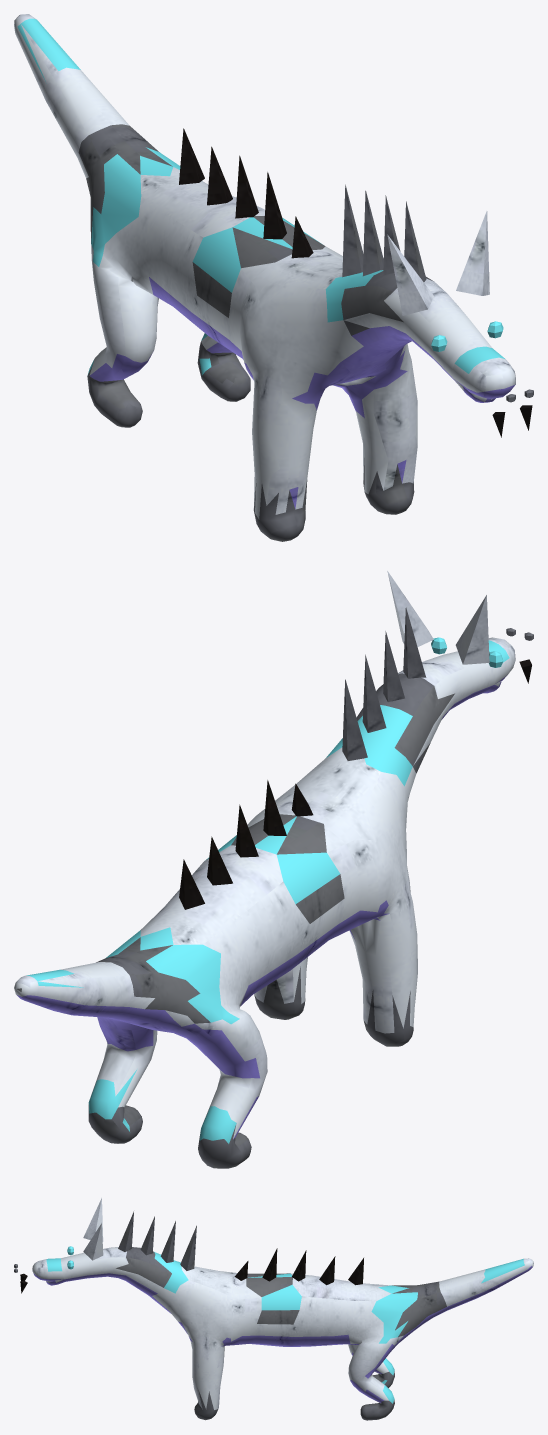
Rendered from mon_sp_rift_fox.glb.
The picture shows the model from 3 angles, top to bottom: view 1: azimuth 30°, elevation 25°; view 2: azimuth 150°, elevation 25°; view 3: azimuth 270°, elevation 25°; orthographic projection. The views are drawn at different scales.
Parts seen in each view (by area): view 1: mon_sp_rift_fox; view 2: mon_sp_rift_fox; view 3: mon_sp_rift_fox.
Part boxes in pixels (left/top/right/bottom): mon_sp_rift_fox: left=14, top=14, right=533, bottom=541; mon_sp_rift_fox: left=14, top=571, right=533, bottom=1168; mon_sp_rift_fox: left=14, top=1198, right=533, bottom=1420.
Size of the model in its own units: 1.04 by 2.38 by 5.72.
Materials: 6 (6 with a texture image).
